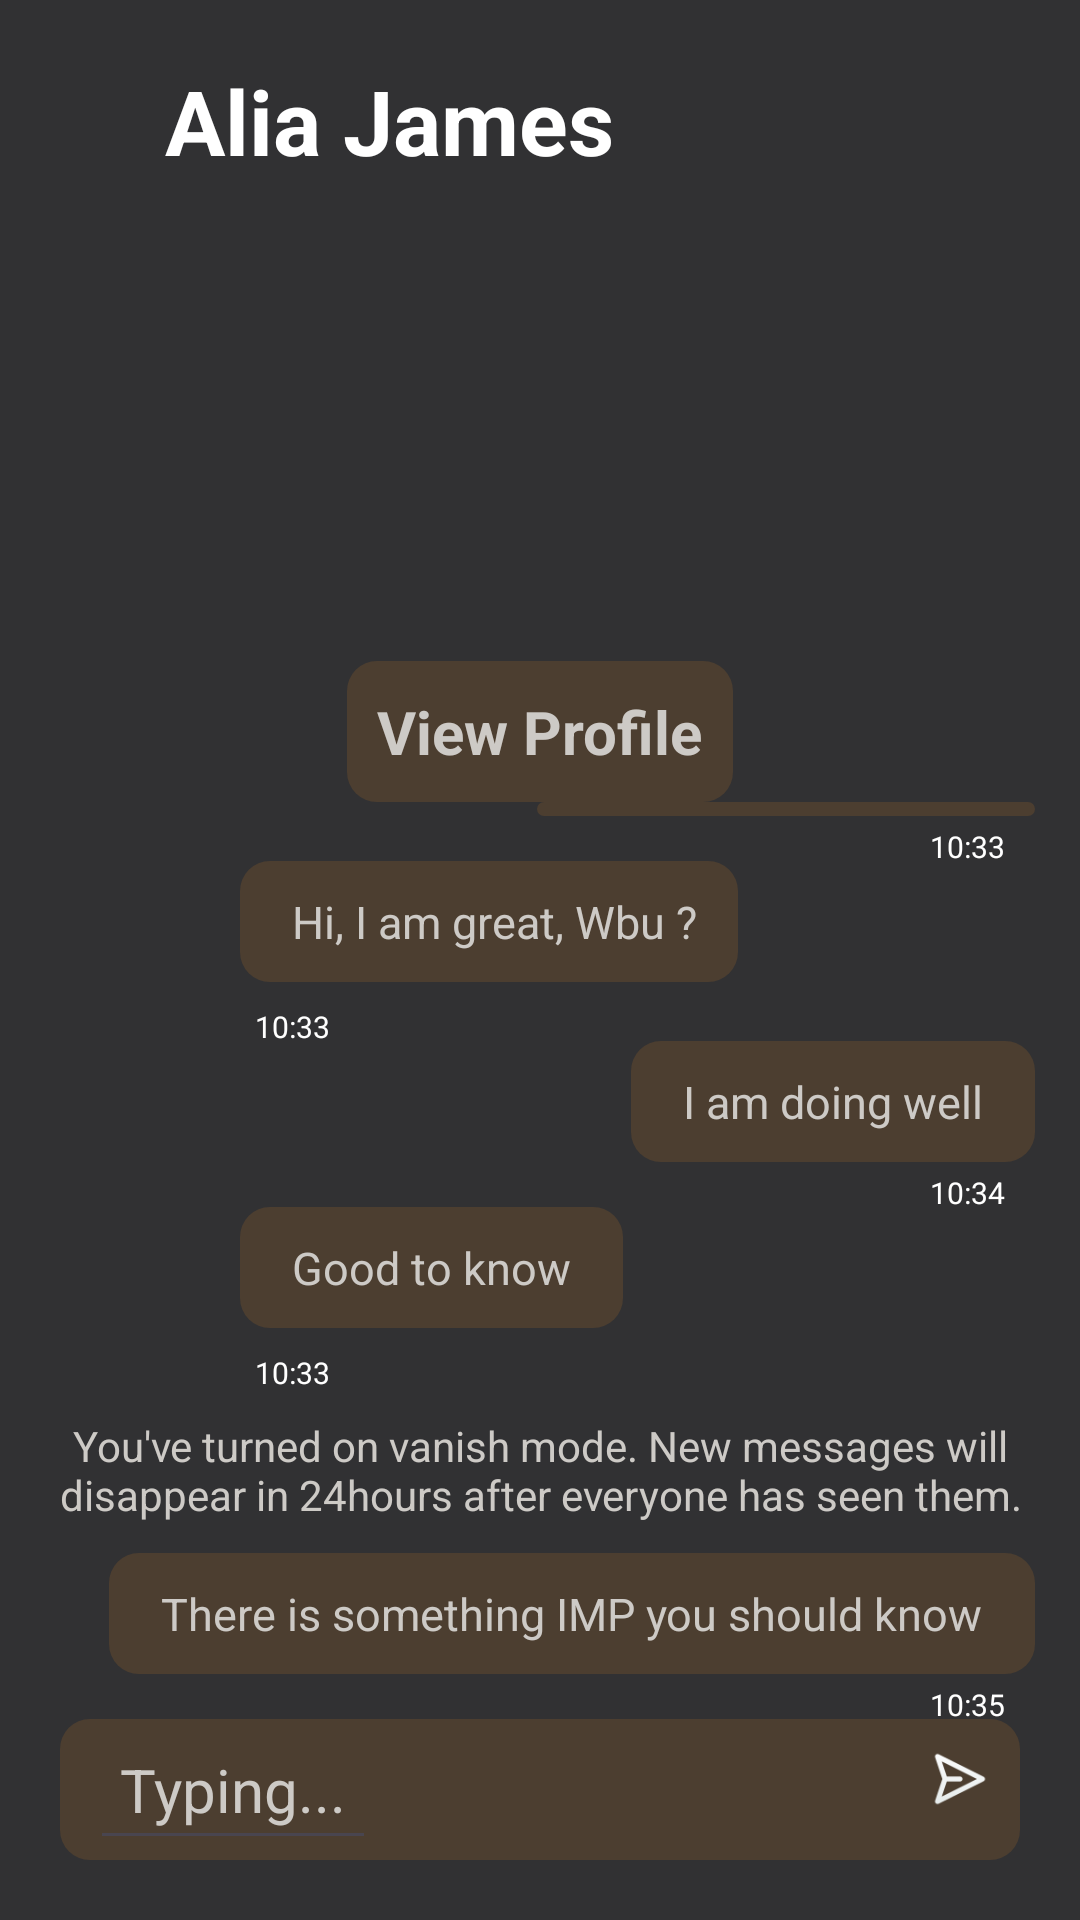

Icons on this 1080x1920 Android screen, each with its box as (x1, y1, x2, y2):
arrow: (934, 1753, 986, 1805)
